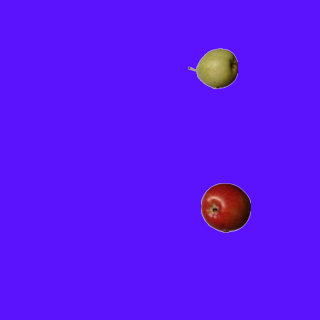Apple Braeburn: (200, 182, 250, 232)
Pear: (187, 43, 237, 93)
